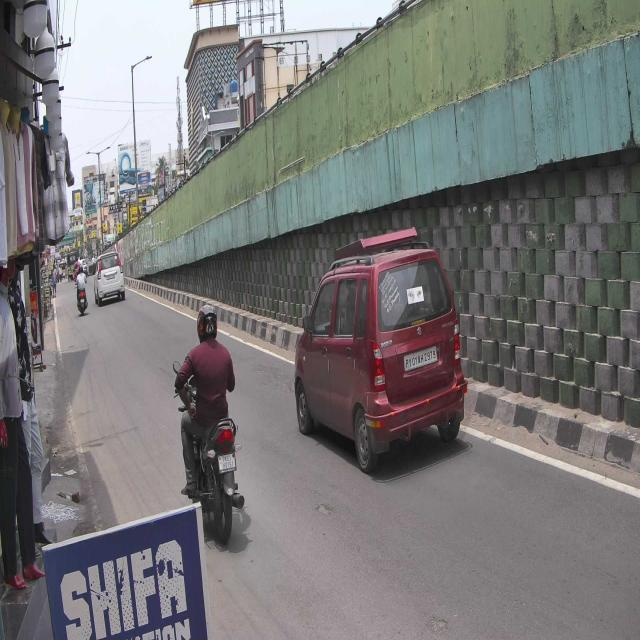single_rider: (172, 299, 246, 551)
